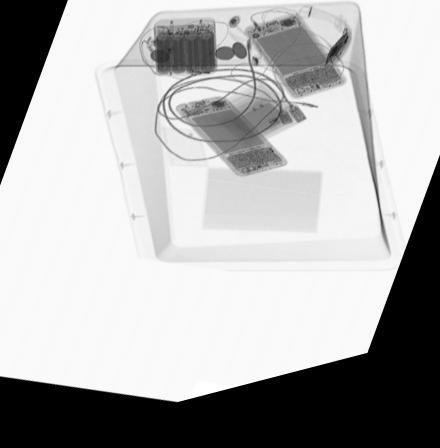Powerbank: (153, 26, 219, 85)
